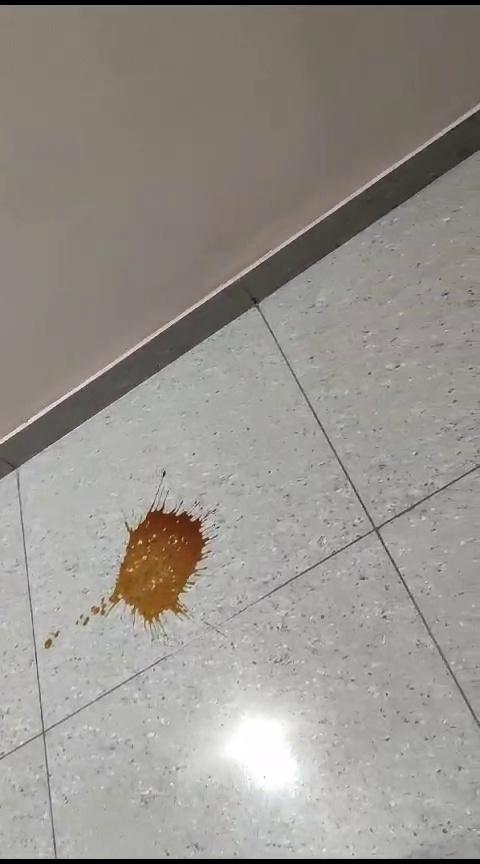dirty_floor: (40, 507, 226, 649)
